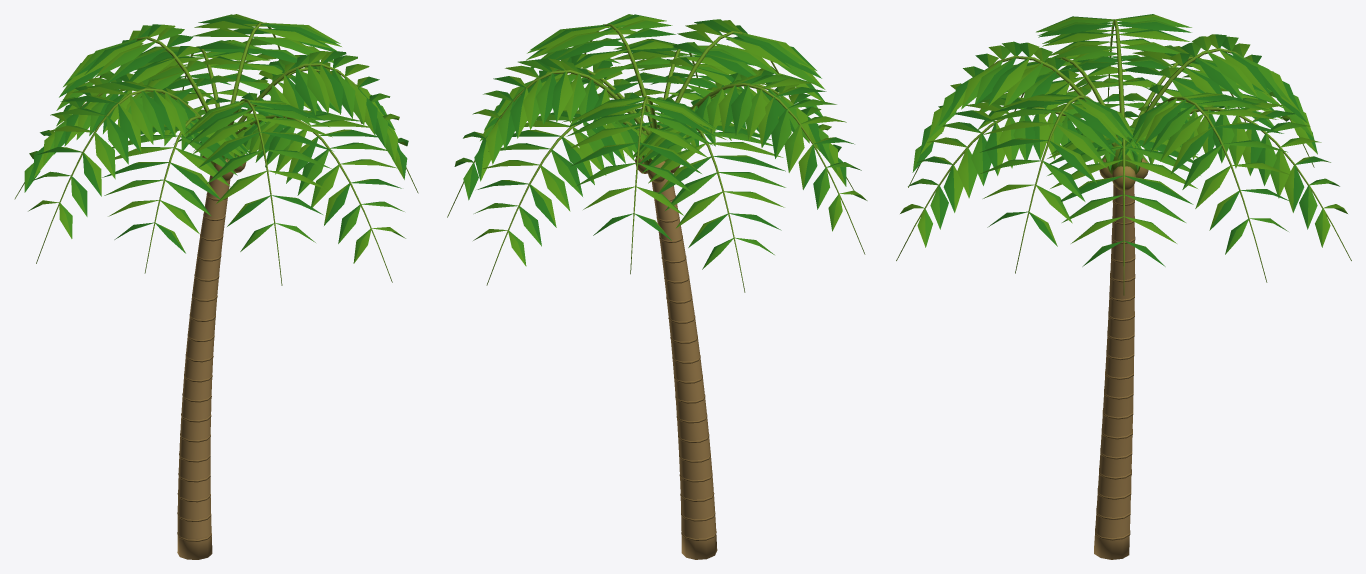
The model's file is palm_a.glb.
3 views of the same model, side by side, from view 1: azimuth 30°, elevation 25°; view 2: azimuth 150°, elevation 25°; view 3: azimuth 270°, elevation 25° (orthographic). The views are drawn at different scales.
Parts seen in each view (by area): view 1: palm_a; view 2: palm_a; view 3: palm_a.
Part boxes in pixels (x1=…): palm_a: x1=14, y1=14, x2=418, y2=559; palm_a: x1=447, y1=14, x2=867, y2=559; palm_a: x1=896, y1=14, x2=1351, y2=559.
Size of the model in its own units: 5.74 by 7.21 by 5.89.
